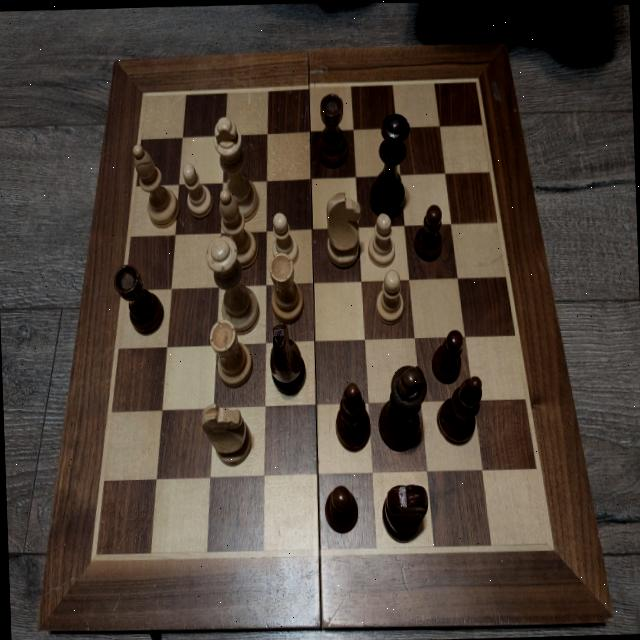black_bishop: (434, 373, 484, 444), (334, 385, 372, 454)
black_king: (375, 363, 428, 449)
black_knight: (268, 322, 307, 396), (381, 482, 429, 540)
black_pawn: (411, 201, 444, 262), (430, 327, 464, 382), (324, 483, 359, 533)
black_queen: (368, 112, 413, 217)
black_rook: (113, 263, 164, 336), (316, 91, 348, 167)
white_bishop: (132, 143, 180, 227), (218, 190, 258, 272)
white_king: (214, 116, 258, 219)
white_knight: (200, 403, 252, 465), (323, 189, 361, 268)
white_pawn: (373, 268, 404, 325), (182, 160, 213, 217), (366, 210, 396, 265), (270, 213, 300, 267)
white_queen: (206, 235, 258, 338)
white_rook: (208, 316, 254, 387), (269, 249, 305, 325)
